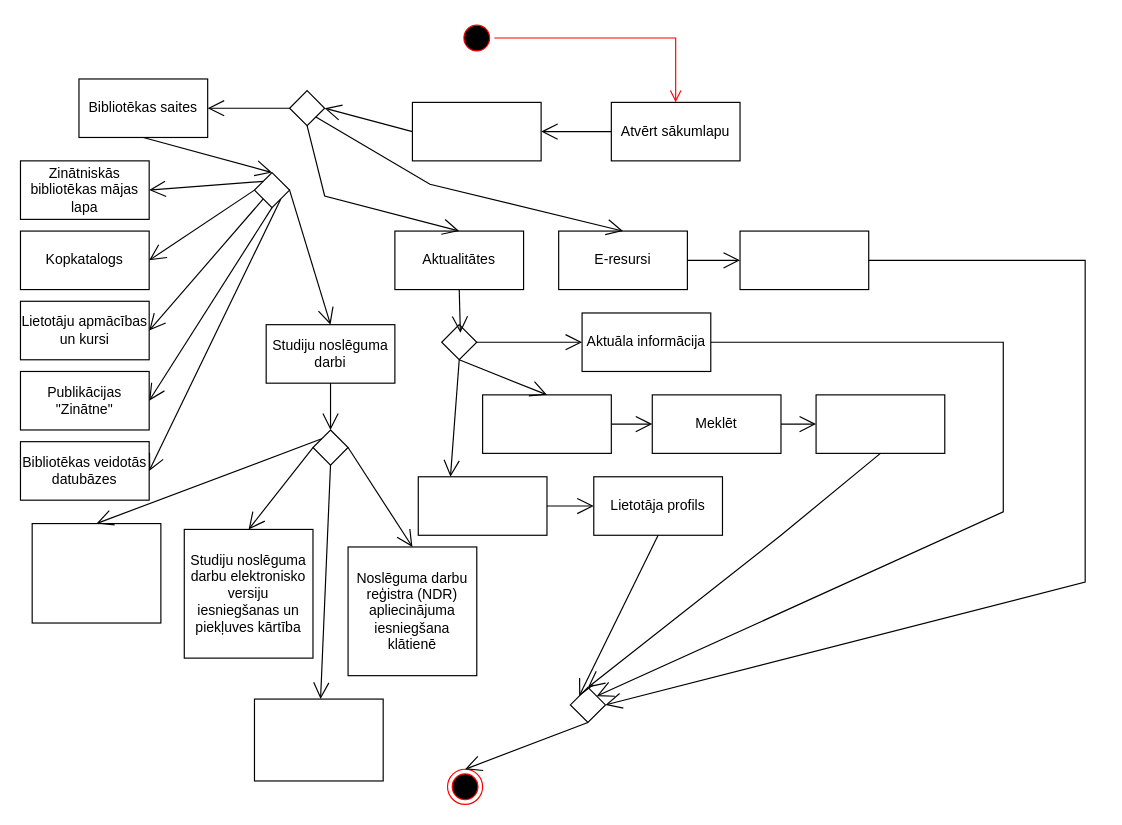
Some shapes in this 1122 by 825 pixel diagram are drawn without their labels. The shapes that lost their labels are listed below. From the top down, each one's box as (x1, y1, x2, y2) in pixels, then its label:
(411, 101, 541, 161): Uzklikšķināt uz "Bibliotēka"
(739, 230, 869, 290): Elektroniskie resursi
(481, 394, 611, 453): Ievadīt meklēšanas tekstu
(815, 394, 945, 453): Meklēšanas rezultāti
(417, 476, 547, 535): Mani dati
(31, 522, 161, 623): Noslēguma darbu reģistra (NDR) darba iesniegšana ar e-parakstītu PDF
(253, 698, 383, 781): Atvērt studiju noslēguma darbu reģistru
